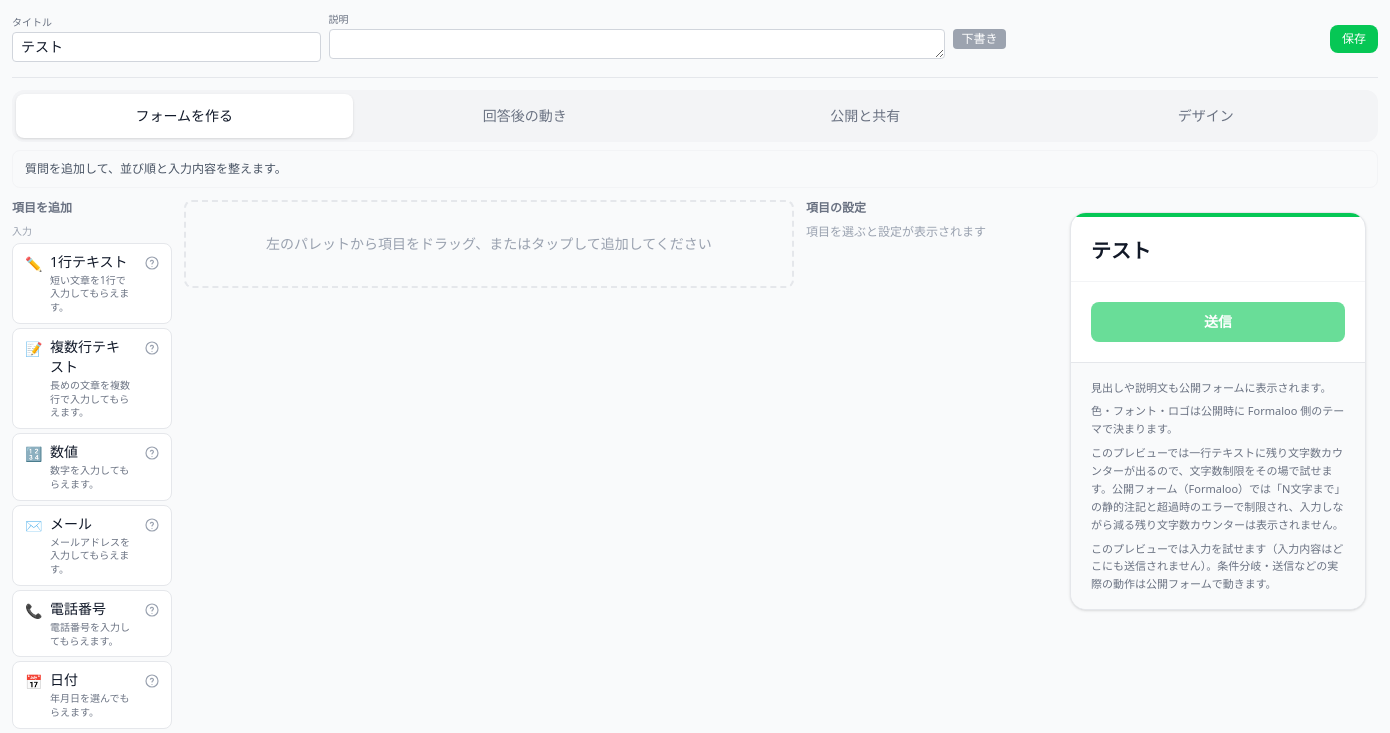
Scenario: FormBuilder — 設定パネル › 必須チェックで必須バッジが出る
This screenshot has width=1390, height=733.
Step 1. Click the button with aria-label "1行テキストを追加" → (92, 283), box [12,242,172,324]
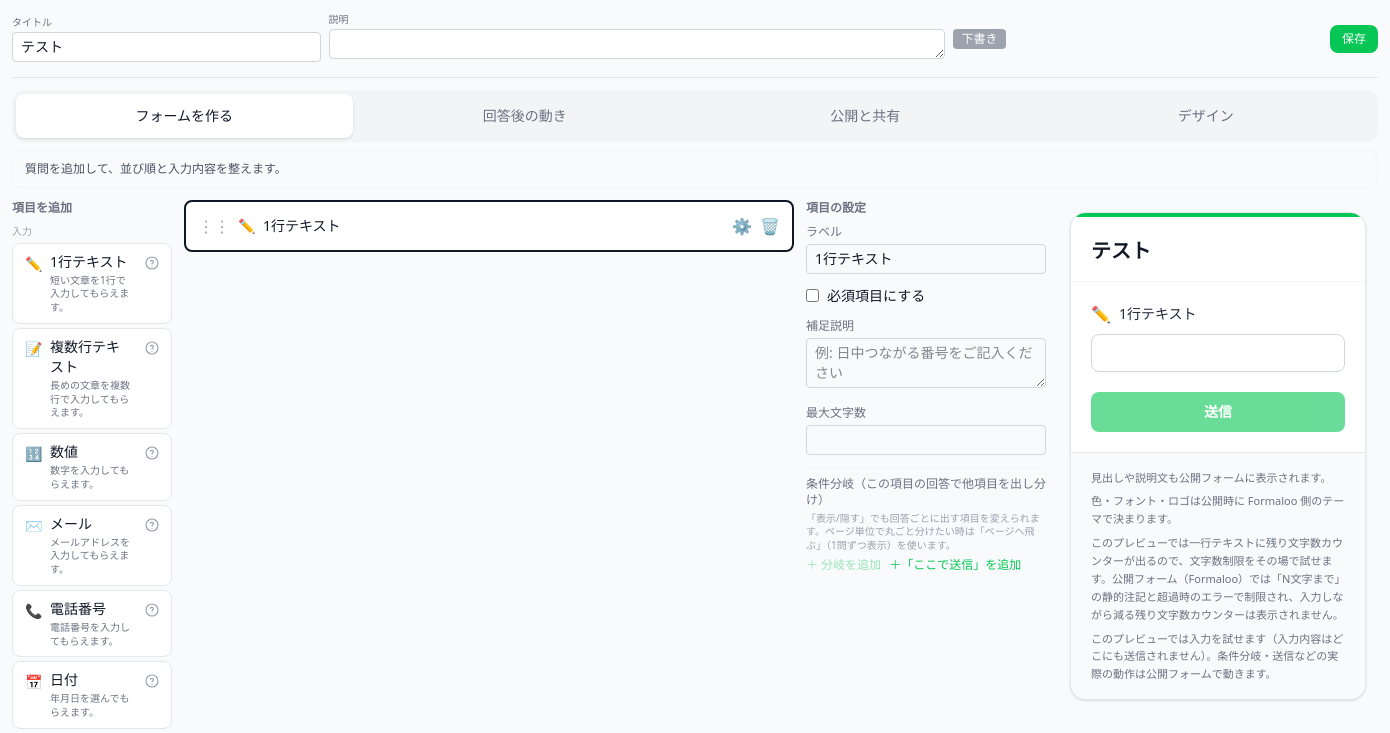
Step 2. Click the checkbox labelled "必須" → (812, 296), box [806,289,819,302]
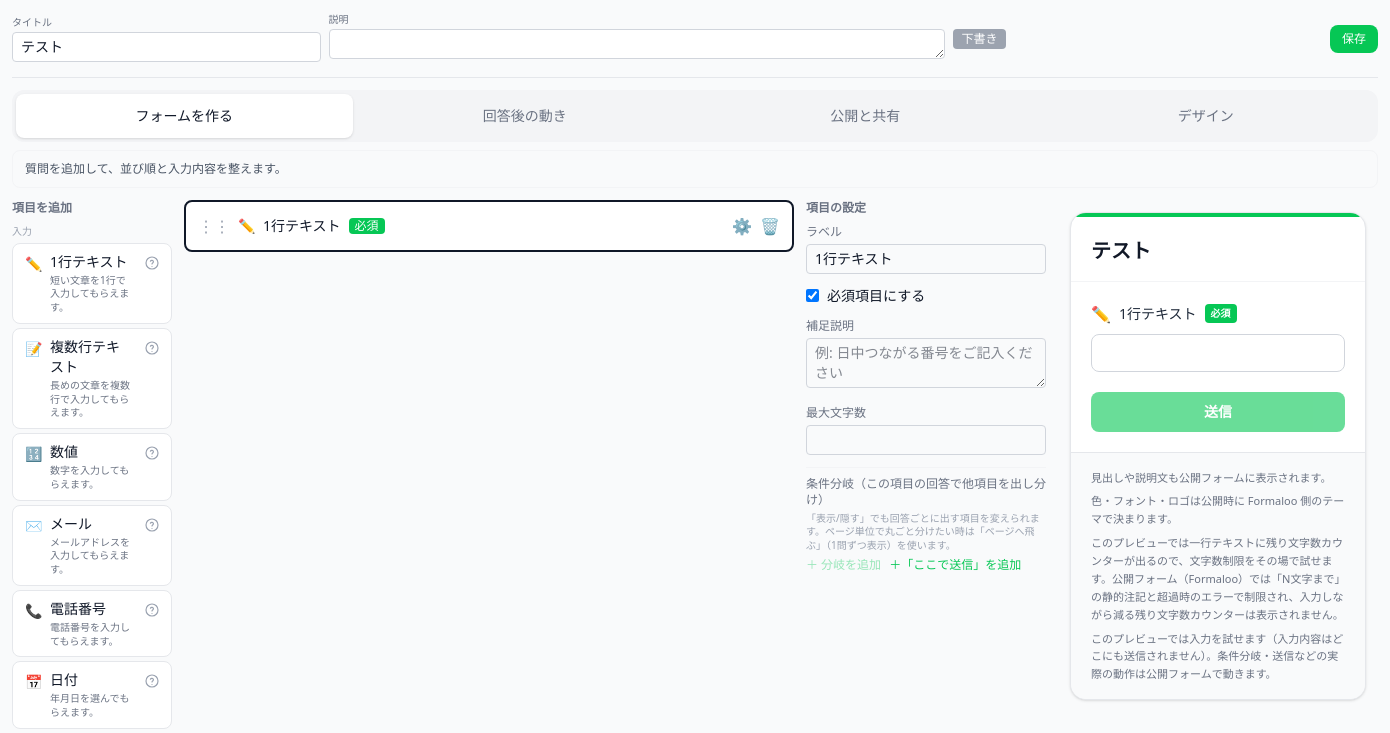
Now the 1st text "必須" is shown, box [349,218,385,234]
